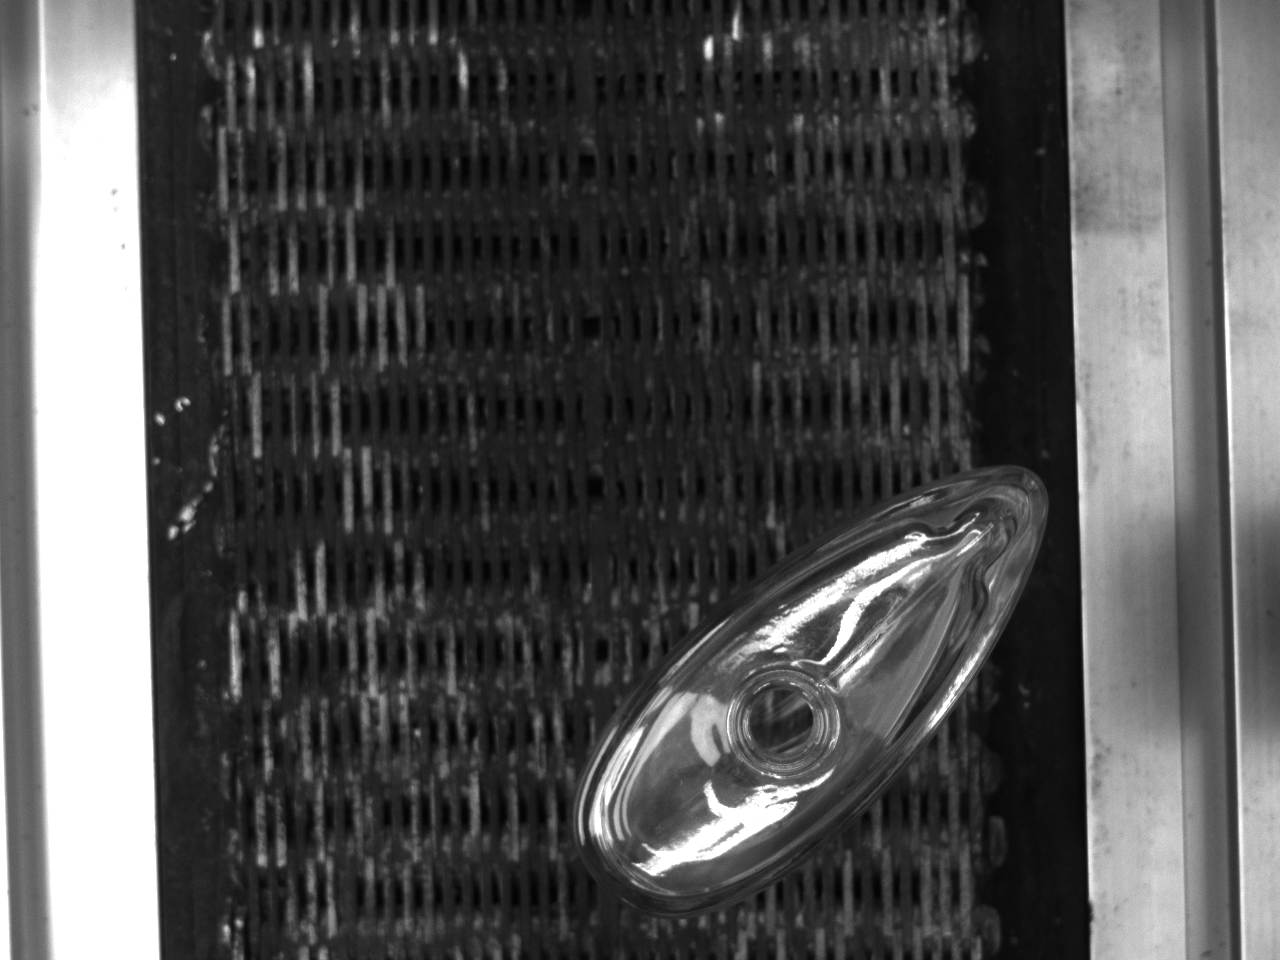bottleneck: (730, 667, 840, 775)
